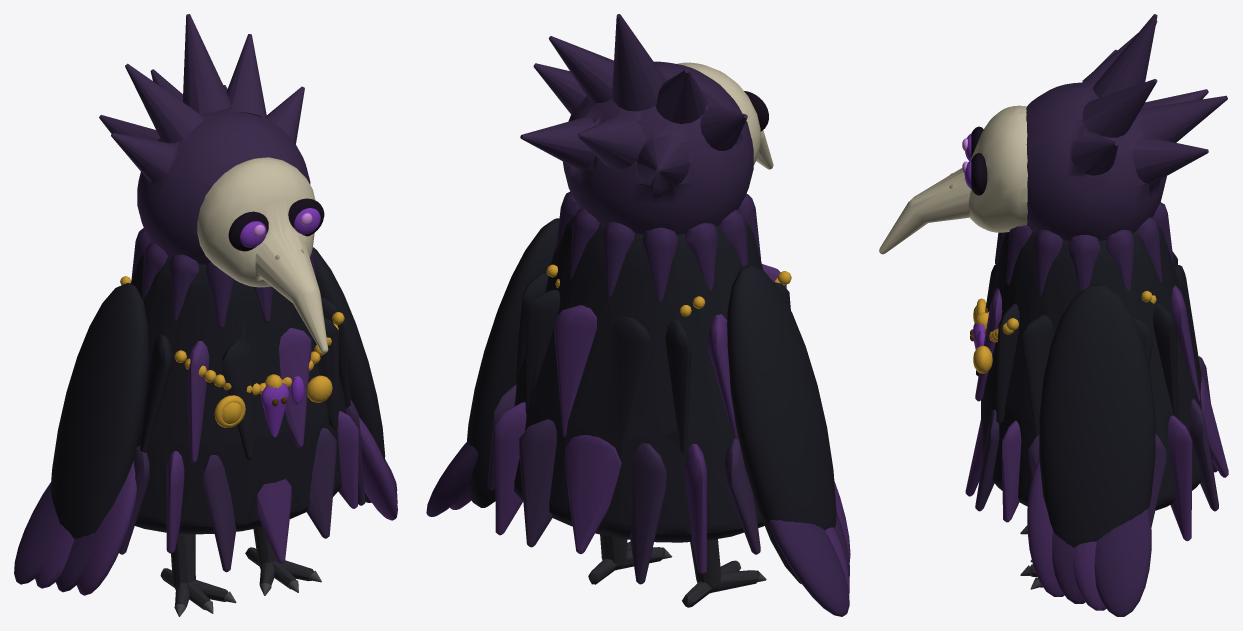
Rendered from ravenmourne.glb.
3 views of the same model, side by side, from view 1: azimuth 30°, elevation 25°; view 2: azimuth 150°, elevation 25°; view 3: azimuth 270°, elevation 25° (orthographic). The views are drawn at different scales.
Visible parts, largest first — view 1: creature; view 2: creature; view 3: creature.
Boxes of the visible parts, x1=… form: creature: x1=14, y1=14, x2=397, y2=616; creature: x1=426, y1=14, x2=850, y2=616; creature: x1=879, y1=14, x2=1228, y2=616.
Size of the model in its own units: 0.7296 by 1 by 0.586.
